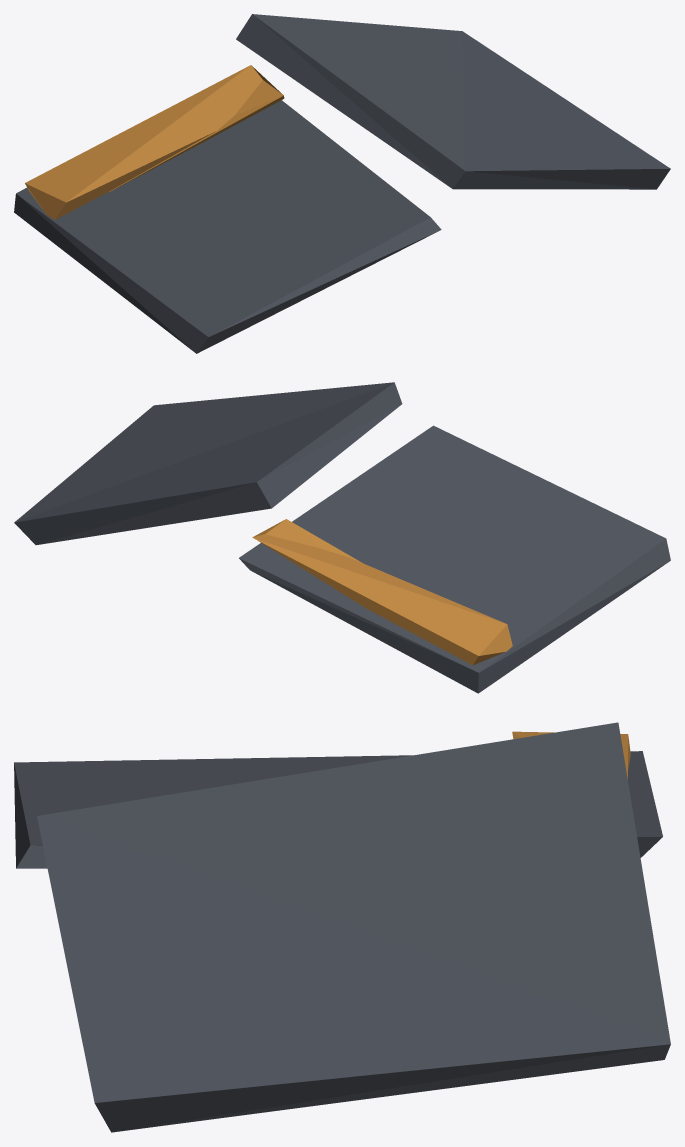
File: SM_Wreck_Plate.fbx
The picture shows the model from 3 angles, top to bottom: view 1: azimuth 30°, elevation 25°; view 2: azimuth 150°, elevation 25°; view 3: azimuth 270°, elevation 25°; orthographic projection. The views are drawn at different scales.
Parts seen in each view (by area): view 1: SM_Wreck_Plate; view 2: SM_Wreck_Plate; view 3: SM_Wreck_Plate.
Part boxes in pixels (x1,y1,x2,y2): SM_Wreck_Plate: (14, 14, 670, 353); SM_Wreck_Plate: (14, 382, 670, 693); SM_Wreck_Plate: (14, 722, 670, 1132).
Size of what is drawn, in the model's own units: 165 by 114 by 48.24.
